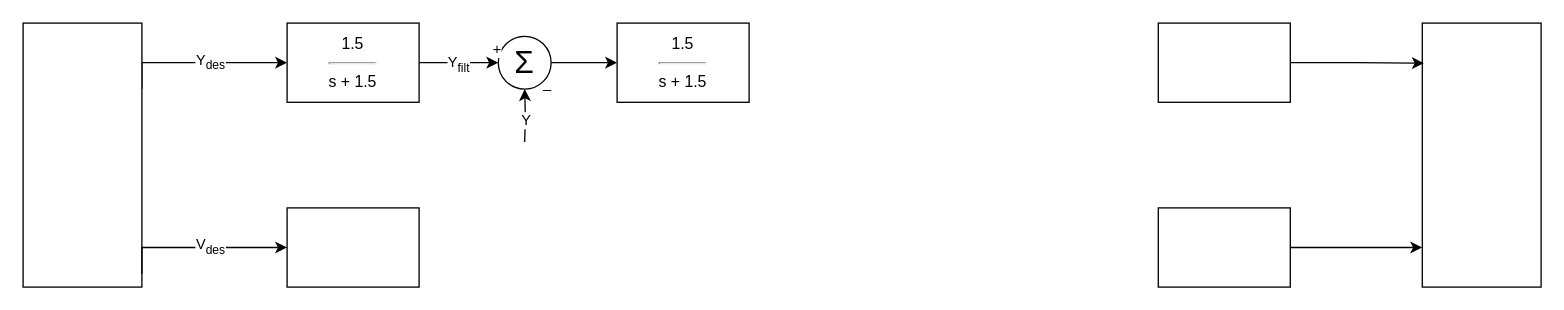
The diagram is 1564 pixels wide and 310 high, and some of its shapes have lost their labels. Each missing label, with the centre of its shape:
"Interface" goes at [82,154].
"Plant" goes at [1481,154].
